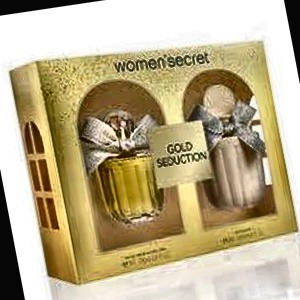women_secret: (146, 6, 283, 83)
